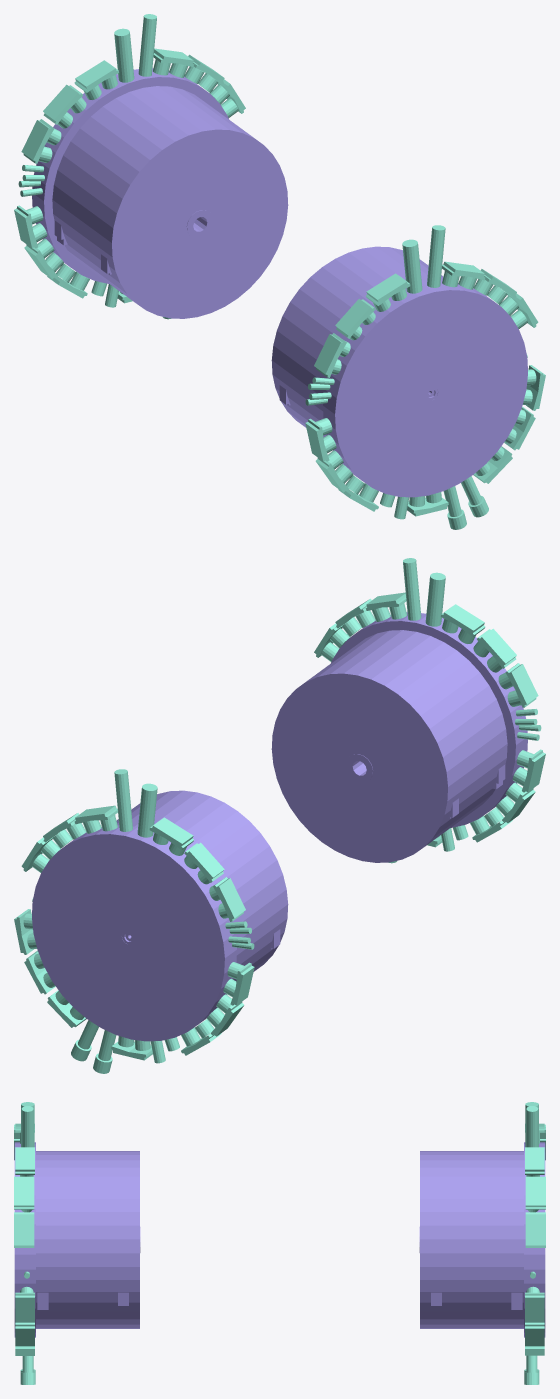
Rendered from Lar-EMEC.gltf.
The picture shows the model from 3 angles, top to bottom: view 1: azimuth 30°, elevation 25°; view 2: azimuth 150°, elevation 25°; view 3: azimuth 270°, elevation 25°; orthographic projection. The views are drawn at different scales.
Parts seen in each view (by area): view 1: _0672A888, _06B22DD8; view 2: _0672A888, _06B22DD8; view 3: _0672A888, _06B22DD8.
Part boxes in pixels (left/top/right/bottom): _0672A888: left=32, top=68, right=527, bottom=497; _06B22DD8: left=14, top=14, right=545, bottom=529; _0672A888: left=32, top=612, right=527, bottom=1041; _06B22DD8: left=14, top=558, right=545, bottom=1073; _0672A888: left=14, top=1142, right=545, bottom=1337; _06B22DD8: left=14, top=1102, right=545, bottom=1384.
Size of the model in its own units: 5.9 by 7.47 by 13.49.
